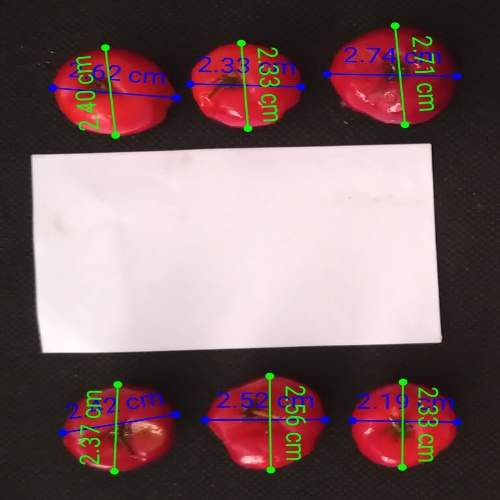acerola: (329, 27, 458, 125), (207, 377, 325, 471), (51, 49, 174, 136), (65, 386, 175, 471), (191, 44, 301, 128), (351, 383, 455, 470)
cartao: (30, 155, 431, 352)
